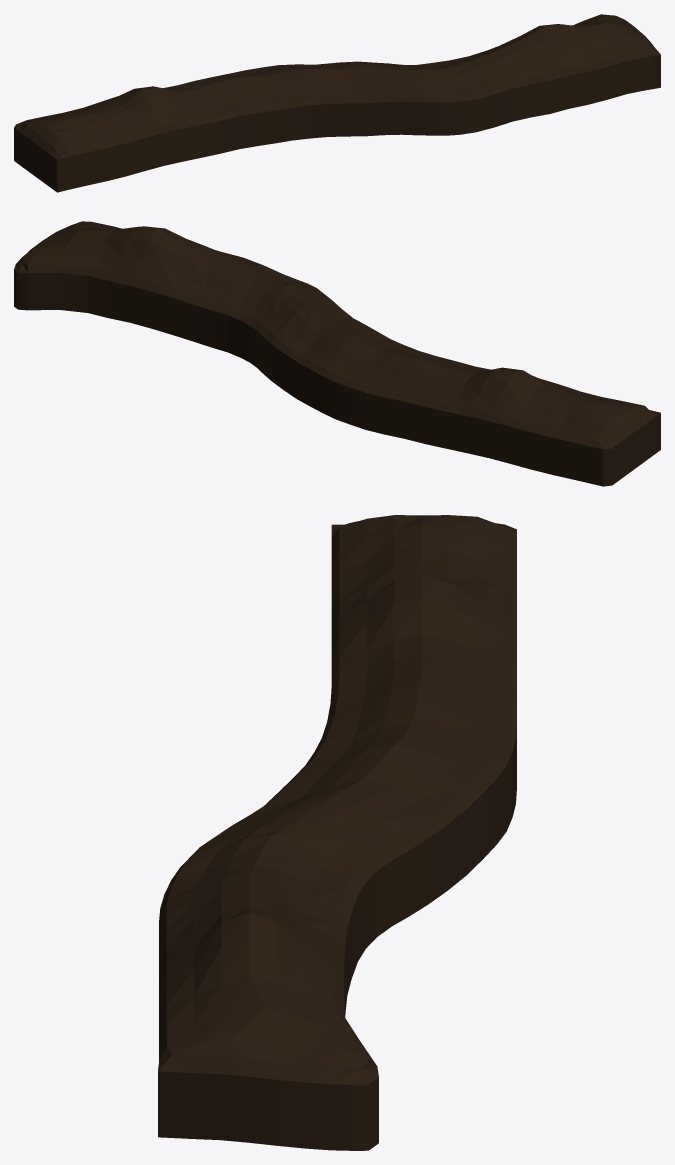
The model's file is Island_D02_Long03_Model.fbx.
3 views of the same model, one above another, from view 1: azimuth 30°, elevation 25°; view 2: azimuth 150°, elevation 25°; view 3: azimuth 270°, elevation 25° (orthographic). The views are drawn at different scales.
Visible parts, largest first — view 1: Island_D_Long03; view 2: Island_D_Long03; view 3: Island_D_Long03.
Part boxes in pixels (<box>): Island_D_Long03: <box>14,14,660,192</box>; Island_D_Long03: <box>14,221,660,486</box>; Island_D_Long03: <box>158,515,516,1150</box>.
Bounding box in the file's own units: 246 × 29.44 × 67.14.
